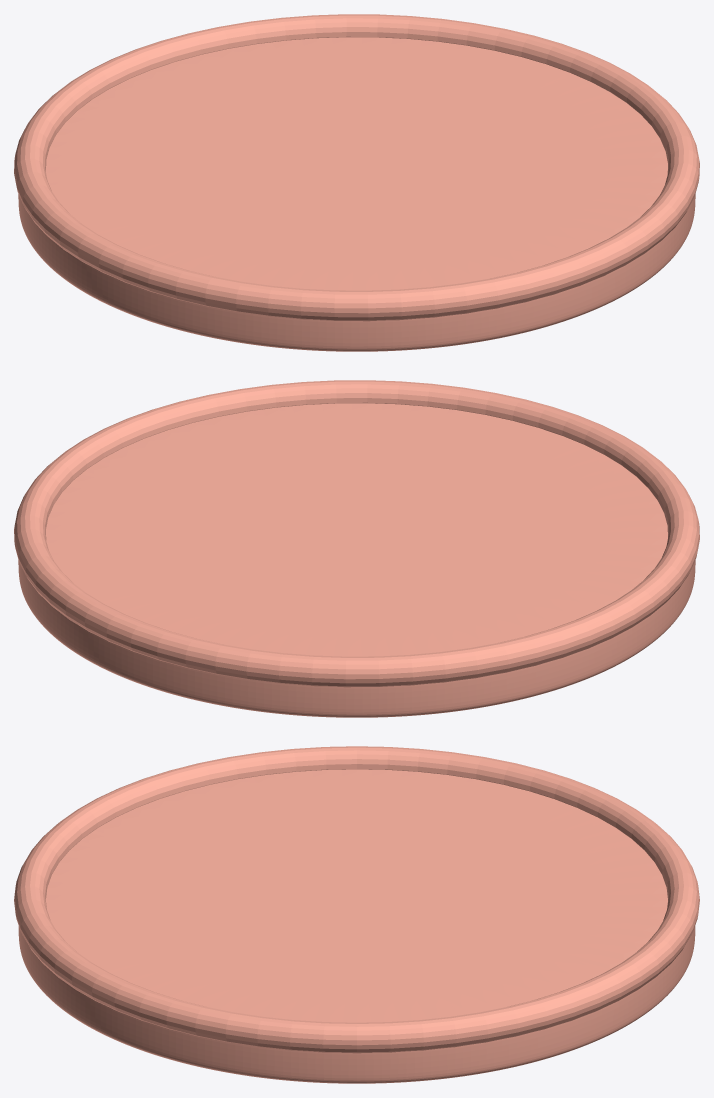
The model's file is Toy_SpawnPad_Coral_Hi.fbx.
3 renders of one model, top to bottom at view 1: azimuth 30°, elevation 25°; view 2: azimuth 150°, elevation 25°; view 3: azimuth 270°, elevation 25°, orthographic.
Parts seen in each view (by area): view 1: Cylinder, Torus; view 2: Cylinder, Torus; view 3: Cylinder, Torus.
Part boxes in pixels (box(x1,y1,x2,y2)): Cylinder: box(18, 37, 695, 351); Torus: box(14, 14, 699, 321); Cylinder: box(18, 403, 695, 717); Torus: box(14, 380, 699, 687); Cylinder: box(18, 769, 695, 1083); Torus: box(14, 746, 699, 1053).
Size of the model in its own units: 1.72 by 0.16 by 1.72.
